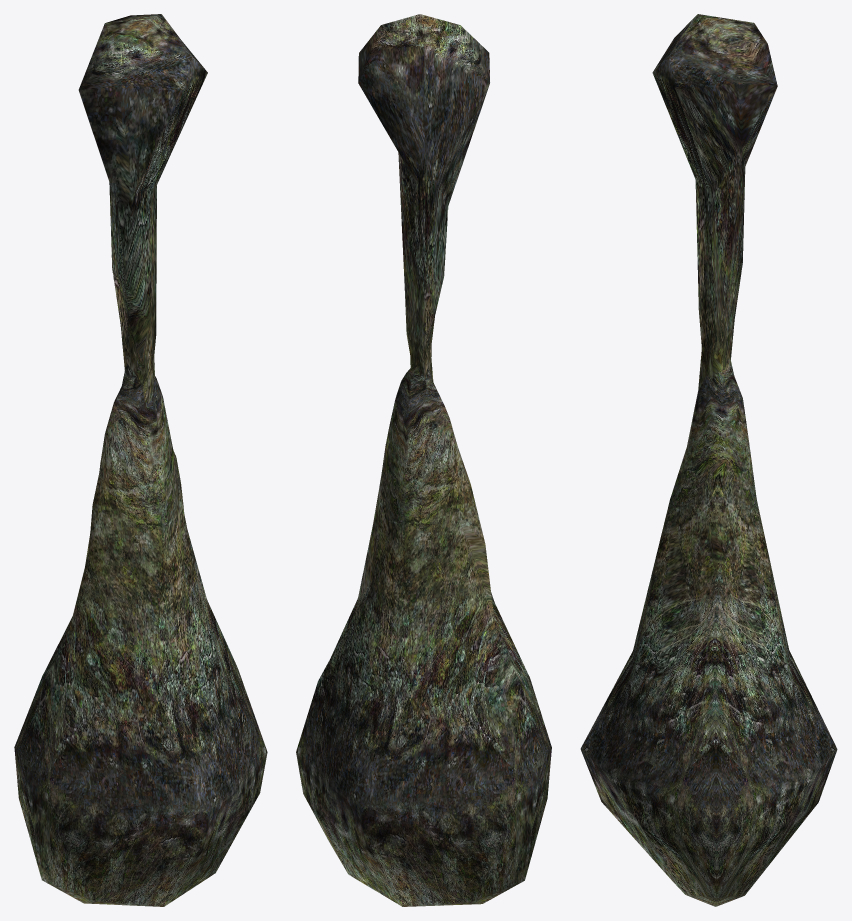
File: thm_all_cave_column_damprock_a2_l0.fbx
3 renders of one model, left to right at view 1: azimuth 30°, elevation 25°; view 2: azimuth 150°, elevation 25°; view 3: azimuth 270°, elevation 25°, orthographic.
Visible parts, largest first — view 1: mesh_node; view 2: mesh_node; view 3: mesh_node.
Boxes of the visible parts, x1=… form: mesh_node: x1=14, y1=14, x2=267, y2=906; mesh_node: x1=296, y1=14, x2=551, y2=906; mesh_node: x1=580, y1=14, x2=837, y2=906.
Bounding box in the file's own units: 2.49 × 8.85 × 2.39.
